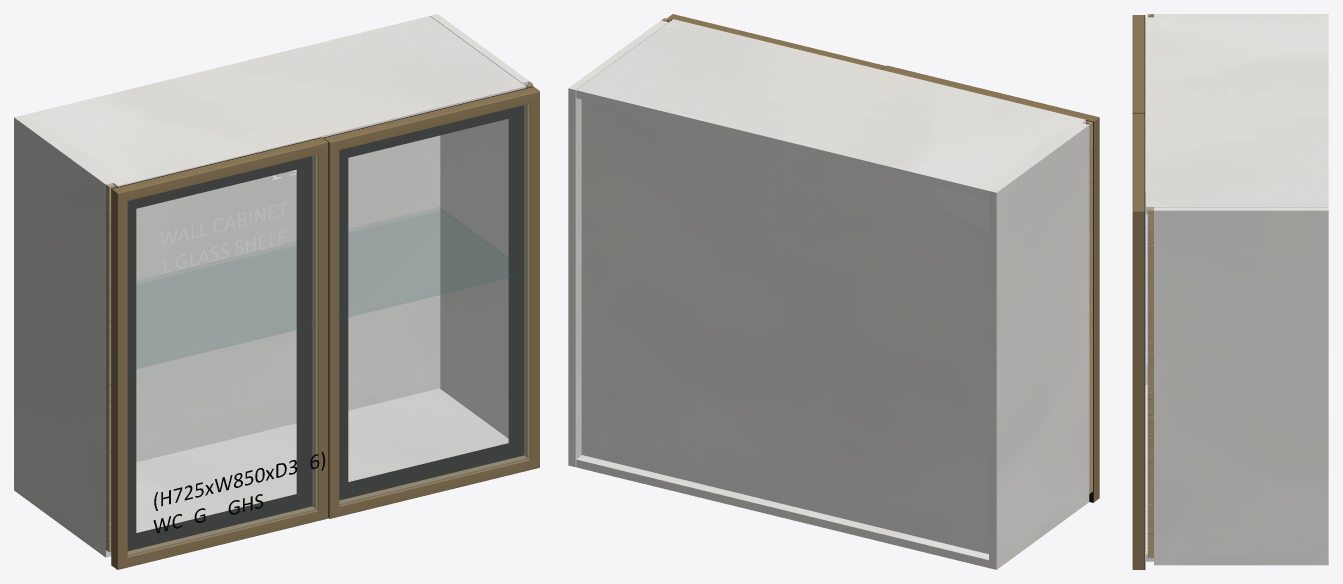
File: WC-SH-NHX-GL-1SG-2HS-XXX-850-725-336-15.glb
The picture shows the model from 3 angles, left to right: view 1: azimuth 30°, elevation 25°; view 2: azimuth 150°, elevation 25°; view 3: azimuth 270°, elevation 25°; orthographic projection. The views are drawn at different scales.
Visible parts, largest first — view 1: Object_node_8, Object_node_4, TP_node_2, TP, Neon 22 Profile ALU PROF NEON 20 L21XH22.5MM 3MTR S2/405 SEC (×8), TP_node_0, TP_node_1, TP_node, Object_node_6, Object_node_10, Object_node_12, 2D text (+1 smaller); view 2: TP_node_2, TP, TP_node_0, TP_node_1, TP_node, Neon 22 Profile ALU PROF NEON 20 L21XH22.5MM 3MTR S2/405 SEC (×3), Object_node_12; view 3: TP_node_1, TP, Neon 22 Profile ALU PROF NEON 20 L21XH22.5MM 3MTR S2/405 SEC (×3), Object_node_20, Object_node_10, TP_node_0, TP_node.
Boxes of the visible parts, x1,y1,x2,y2 form: Object_node_8: (339, 104, 529, 505); Object_node_4: (128, 155, 317, 556); TP_node_2: (136, 135, 440, 462); TP: (22, 16, 525, 187); Neon 22 Profile ALU PROF NEON 20 L21XH22.5MM 3MTR S2/405 SEC (×8): (111, 87, 539, 569); TP_node_0: (14, 115, 113, 557); TP_node_1: (430, 14, 529, 438); TP_node: (136, 388, 508, 532); Object_node_6: (111, 137, 321, 565); Object_node_10: (323, 86, 533, 500); Object_node_12: (106, 184, 115, 552); 2D text: (160, 201, 287, 273); TP_node_2: (581, 99, 988, 554); TP: (576, 19, 1086, 198); TP_node_0: (989, 123, 1089, 569); TP_node_1: (568, 20, 668, 467); TP_node: (576, 455, 988, 567); Neon 22 Profile ALU PROF NEON 20 L21XH22.5MM 3MTR S2/405 SEC (×3): (667, 14, 1099, 502); Object_node_12: (1086, 121, 1092, 493); TP_node_1: (1154, 207, 1328, 565); TP: (1146, 17, 1328, 214); Neon 22 Profile ALU PROF NEON 20 L21XH22.5MM 3MTR S2/405 SEC (×3): (1132, 15, 1144, 569); Object_node_20: (1147, 208, 1153, 557); Object_node_10: (1144, 114, 1145, 569); TP_node_0: (1154, 14, 1328, 17); TP_node: (1146, 364, 1153, 561).
Size of what is drawn, in the model's own units: 0.85 by 0.725 by 0.366.
8 materials, 2 textured.
